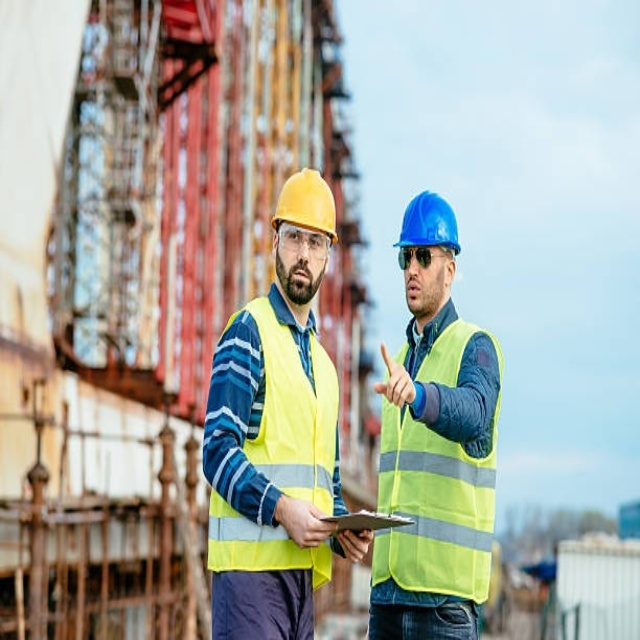Gafas: (278, 225, 331, 256), (399, 245, 451, 270)
Sin_guantes: (373, 341, 418, 410), (279, 497, 336, 549), (331, 525, 373, 563)
Sin_mascara: (288, 260, 314, 298), (405, 276, 429, 317)
